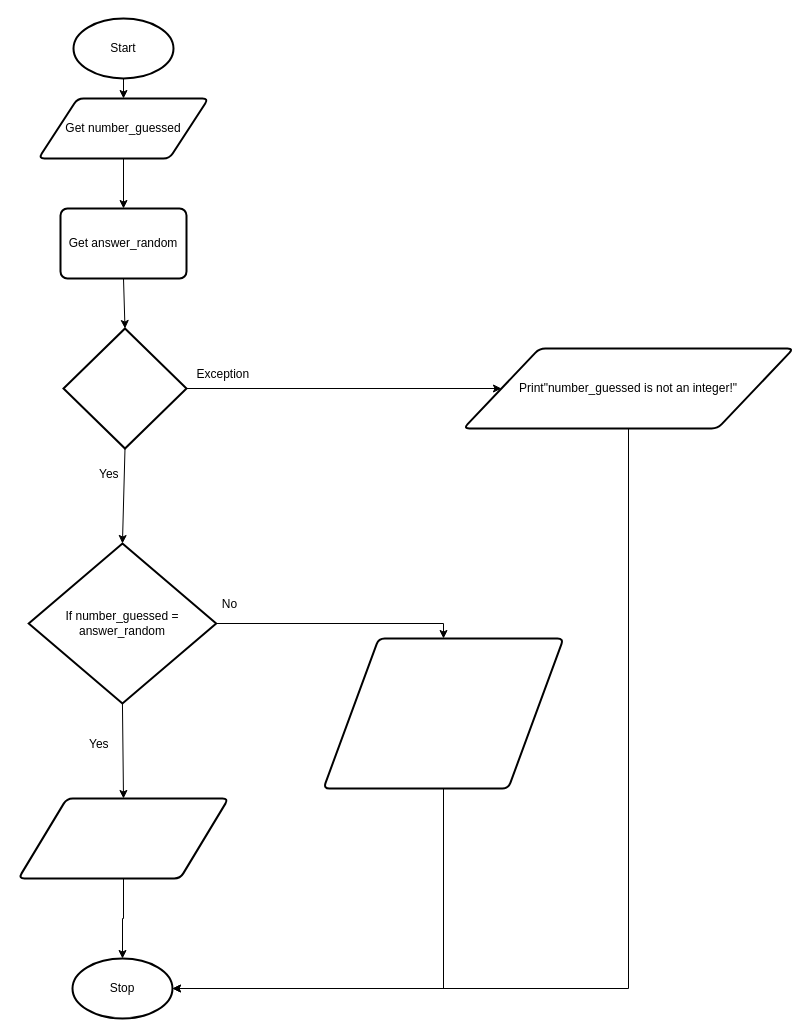
This 811x1036 diagram has some shape labels left out. Each missing label, with the centre of its shape:
Print "Your guess is right!": (123,838)
Print "Your guess is wrong! The answer is answer_random.": (443,713)
try: (124,388)
